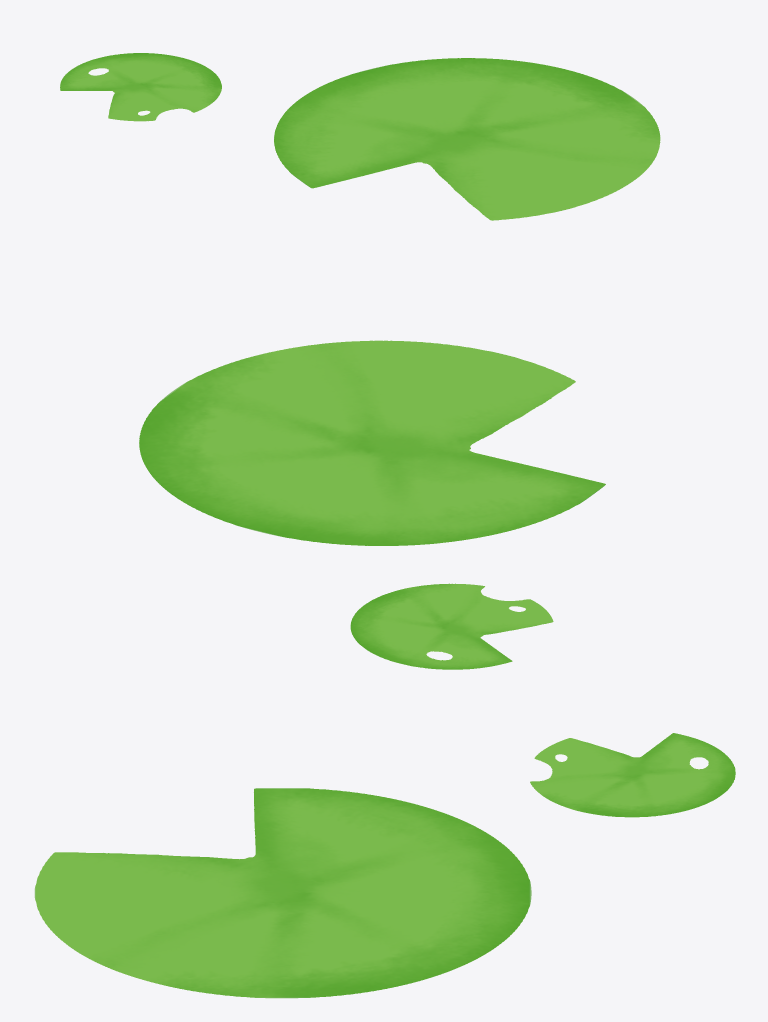
The model's file is LotusLeaf.fbx.
3 views of the same model, one above another, from view 1: azimuth 30°, elevation 25°; view 2: azimuth 150°, elevation 25°; view 3: azimuth 270°, elevation 25° (orthographic). The views are drawn at different scales.
Parts seen in each view (by area): view 1: LotusLeaf; view 2: LotusLeaf; view 3: LotusLeaf.
Boxes of the visible parts, x1,y1,x2,y2 form: LotusLeaf: [60, 53, 660, 220]; LotusLeaf: [139, 340, 605, 669]; LotusLeaf: [34, 733, 735, 998].
Size of the model in its own units: 192 by 3.51e-14 by 211.
Materials: 1 (1 with a texture image).
